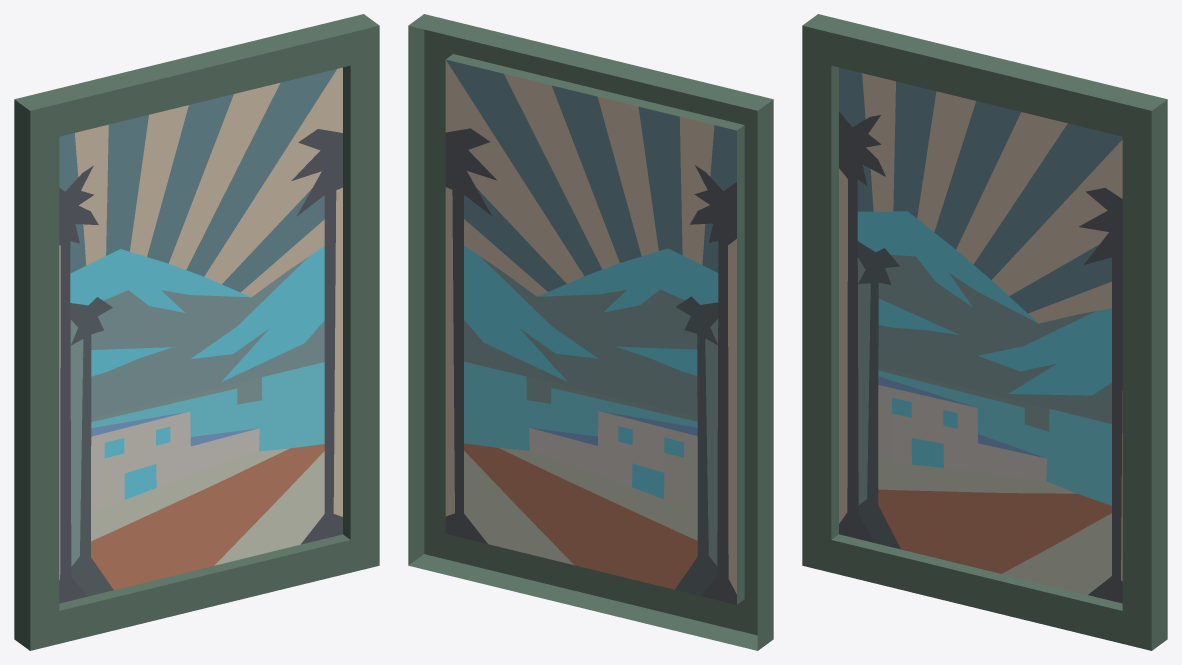
Rendered from SO_picture01.fbx.
The picture shows the model from 3 angles, left to right: view 1: azimuth 30°, elevation 25°; view 2: azimuth 150°, elevation 25°; view 3: azimuth 330°, elevation 25°; orthographic projection.
Visible parts, largest first — view 1: SO_pictures01; view 2: SO_pictures01; view 3: SO_pictures01.
Part boxes in pixels (x1,y1,x2,y2): SO_pictures01: (14, 14, 379, 650); SO_pictures01: (408, 14, 773, 650); SO_pictures01: (802, 14, 1167, 650).
Size of the model in its own units: 74.61 by 110 by 5.88.
